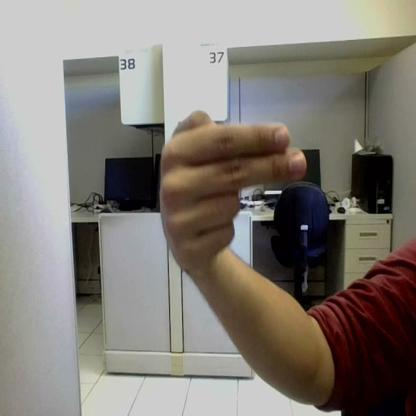H: (159, 111, 307, 270)
